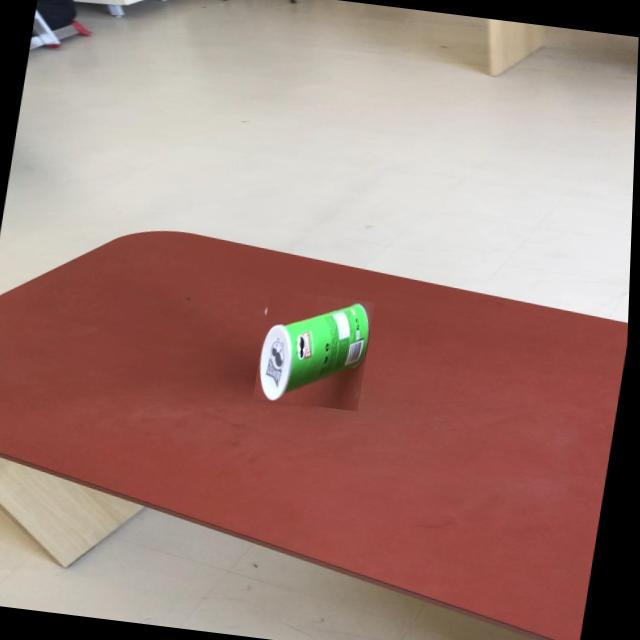a pringles: (254, 290, 379, 411)
